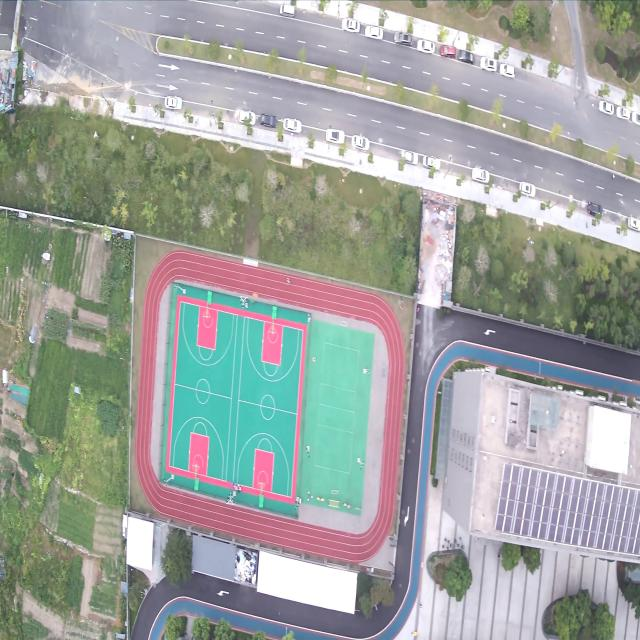UAV: (398, 298, 403, 310)
